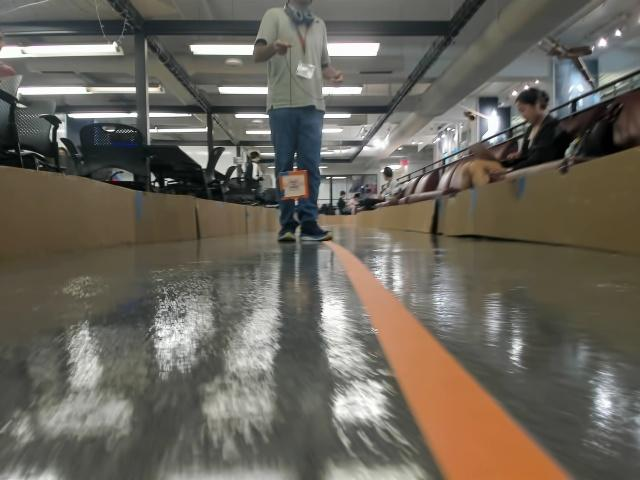Do Not Go Around: (285, 178, 302, 191)
